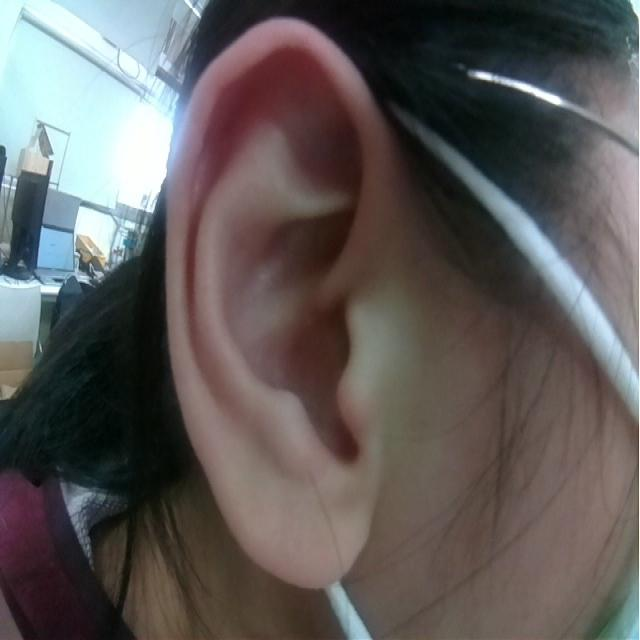no-earmuff: (161, 16, 391, 593)
